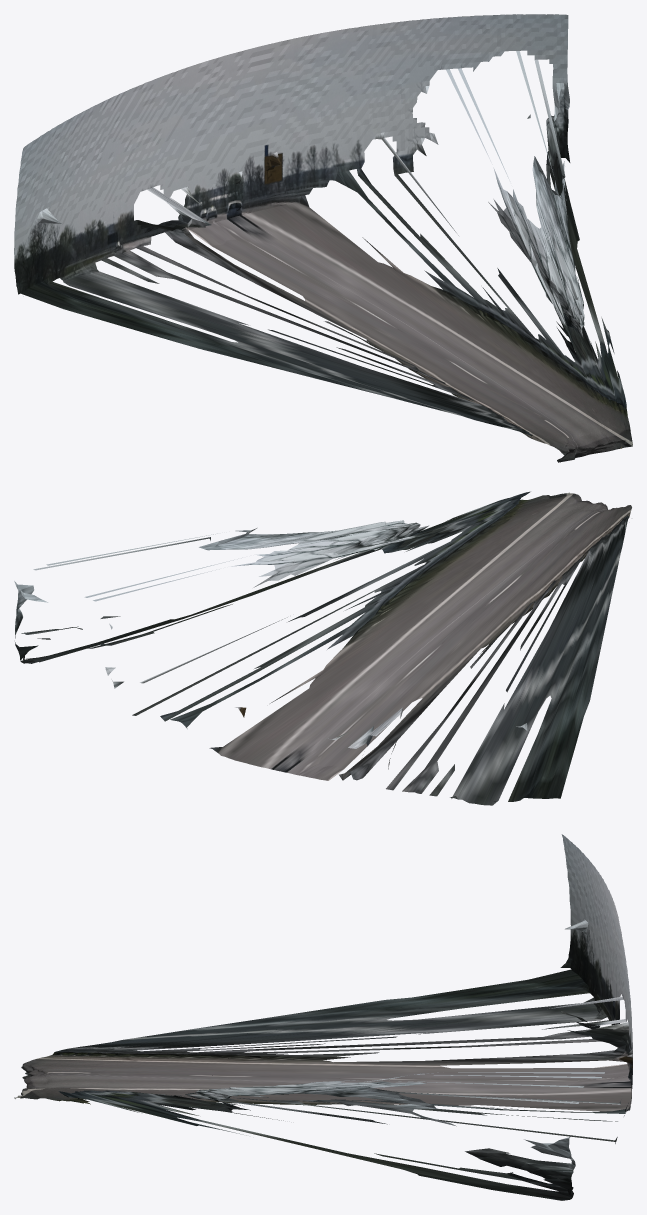
3 renders of one model, top to bottom at view 1: azimuth 30°, elevation 25°; view 2: azimuth 150°, elevation 25°; view 3: azimuth 270°, elevation 25°, orthographic. The views are drawn at different scales.
Parts seen in each view (by area): view 1: defaultobject; view 2: defaultobject; view 3: defaultobject.
Part boxes in pixels (x1,y1,x2,y2): defaultobject: (14, 14, 632, 462); defaultobject: (14, 491, 631, 805); defaultobject: (14, 834, 632, 1200).
Bounding box in the file's own units: 41.09 × 12.33 × 44.65.
1 material, 1 textured.
